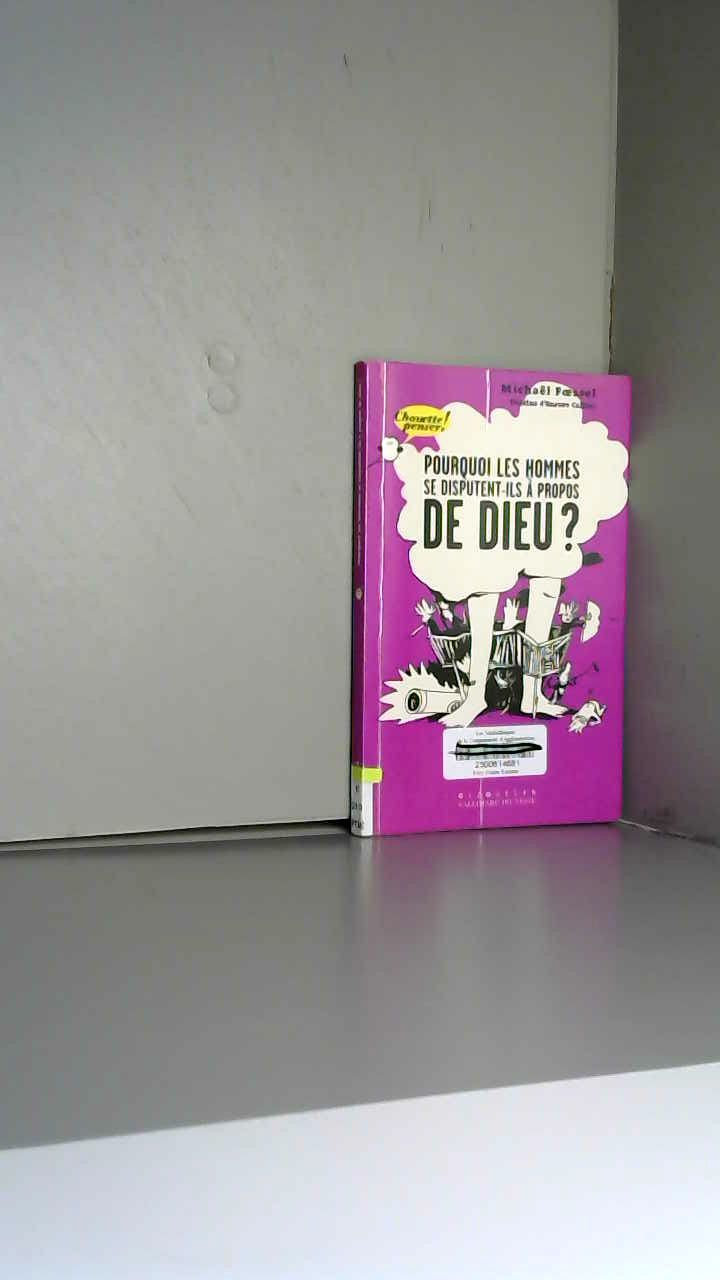book: (320, 340, 718, 910)
